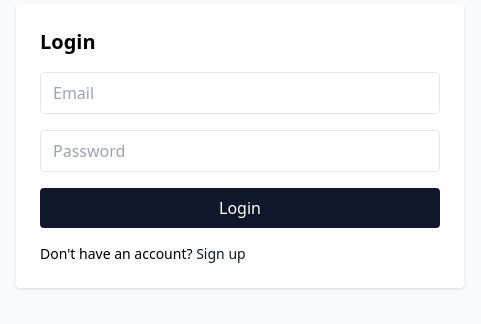
Test case: Login › should display generic error message when error response has no message
Type "test@example.com" into the field with placeholder "Email" at x=240, y=93, box top-left (40, 72), bottom-right (440, 114)
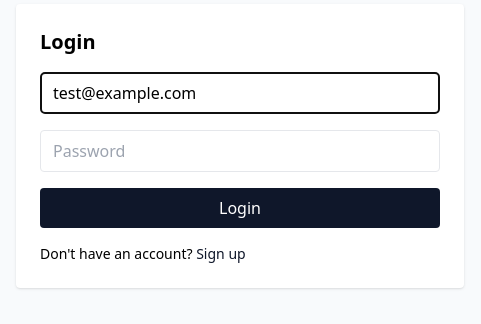
Type "password123" into the password field with placeholder "Password" at x=240, y=151, box top-left (40, 130), bottom-right (440, 172)
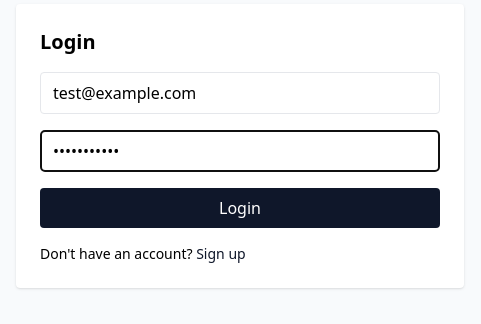
Click the button "Login" at x=240, y=208, box top-left (40, 188), bottom-right (440, 228)
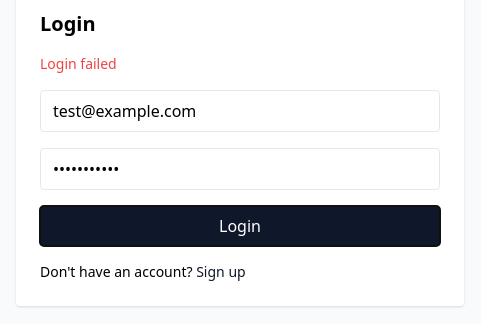
Expected: the text "Login failed" is shown, top-left (40, 54), bottom-right (117, 73)
